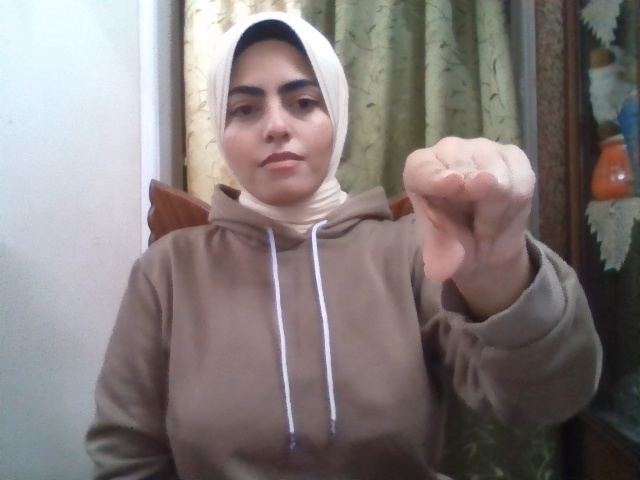no: (403, 136, 537, 285)
